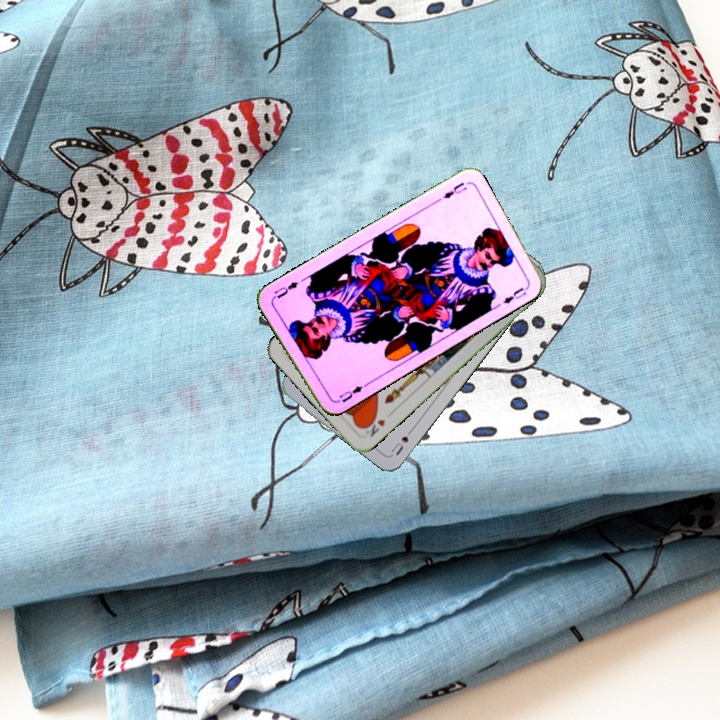EU: (439, 178, 470, 201), (335, 382, 365, 405)
HK: (359, 412, 388, 440)
SU: (387, 423, 417, 458)
